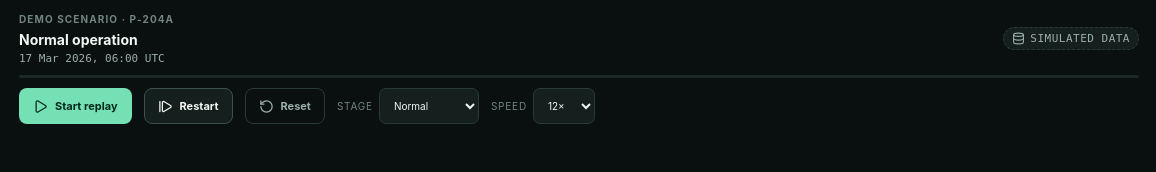
Test: scenario replay controls › starts, pauses, resumes, resets and jumps deterministically
The width and height of the screenshot is (1156, 172).
Click the button "Start replay" at (75, 106), box [19,88,132,124]
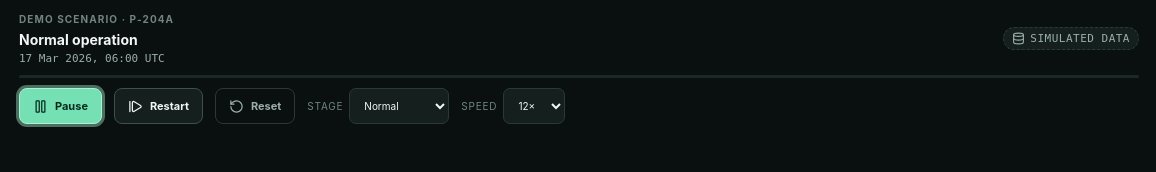
Expected: the button "Pause" is shown
Click the button "Pause" at (60, 106), box [19,88,102,124]
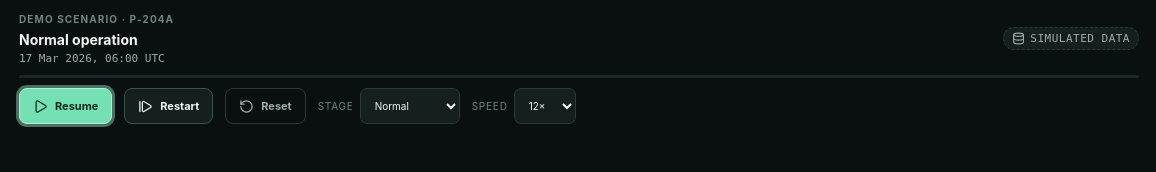
Expected: the button "Resume" is shown, [19,88,112,124]
Select "Critical" in the dropdown named "Jump to scenario stage" at (410, 106), box [360,88,460,124]
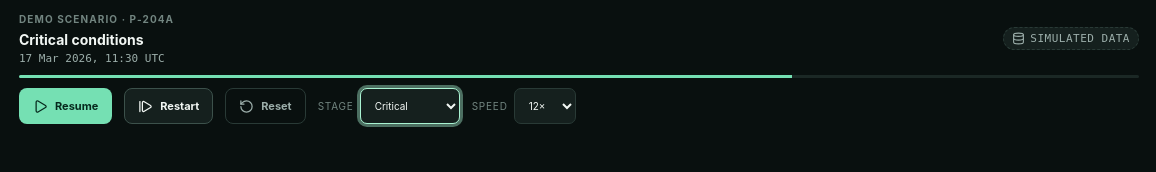
Expected: the text "Critical conditions" is shown, [19,31,144,48]
Click the button "Reset" at (266, 106), box [225,88,306,124]
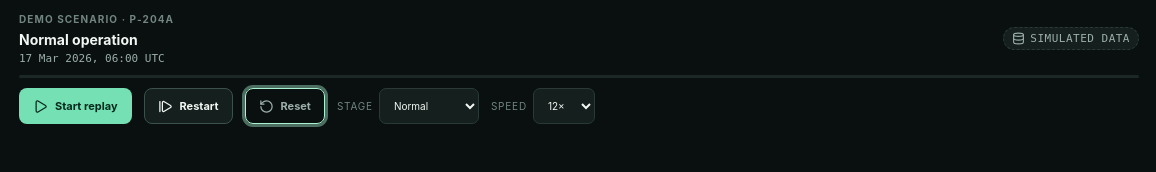
Expected: the text "Normal operation" is shown, [19,31,138,48]
